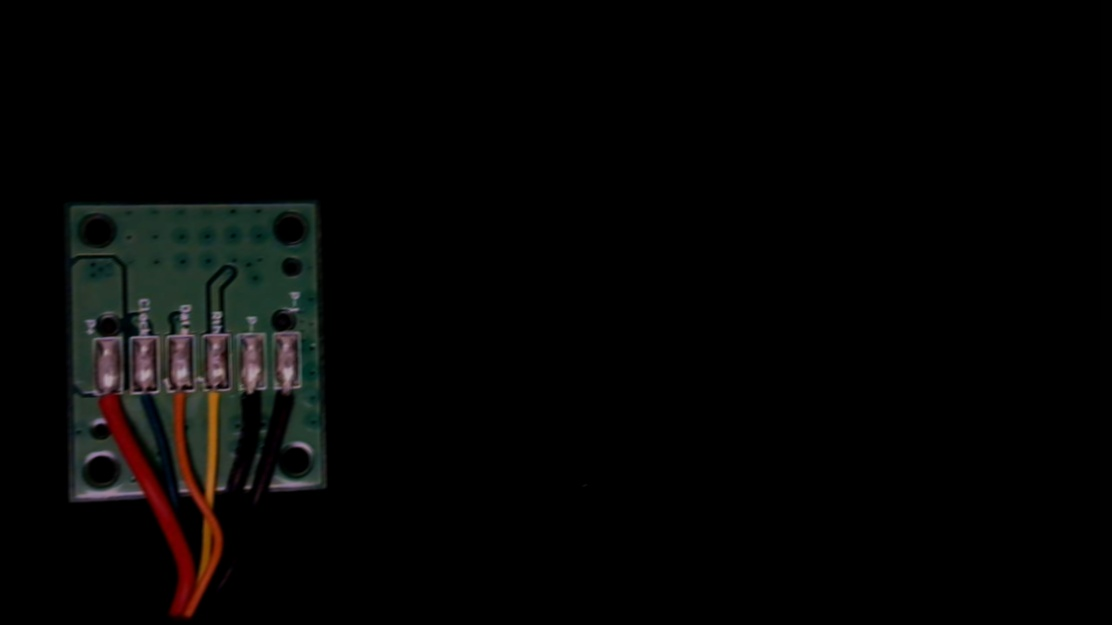Black: (239, 374, 266, 431)
Black1: (273, 373, 302, 432)
Green: (129, 377, 160, 428)
Orange: (166, 376, 193, 430)
Red: (92, 378, 123, 440)
Yellow: (203, 376, 233, 430)
